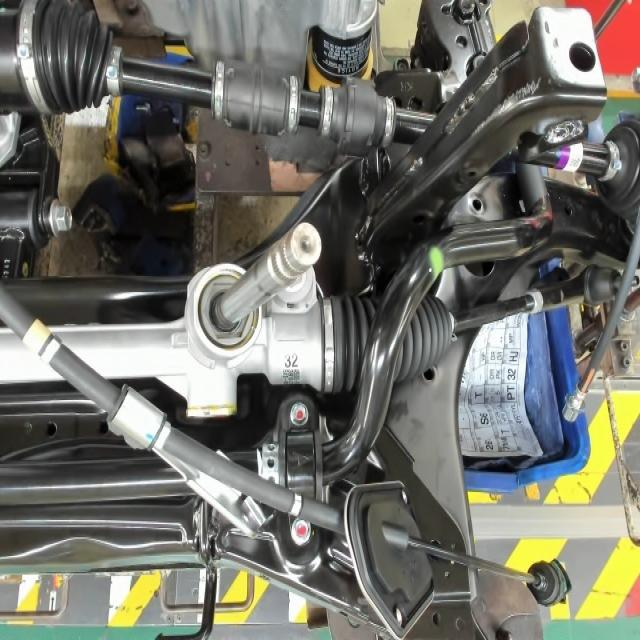Bar Stabilizer-HJ: (424, 242, 448, 287)
